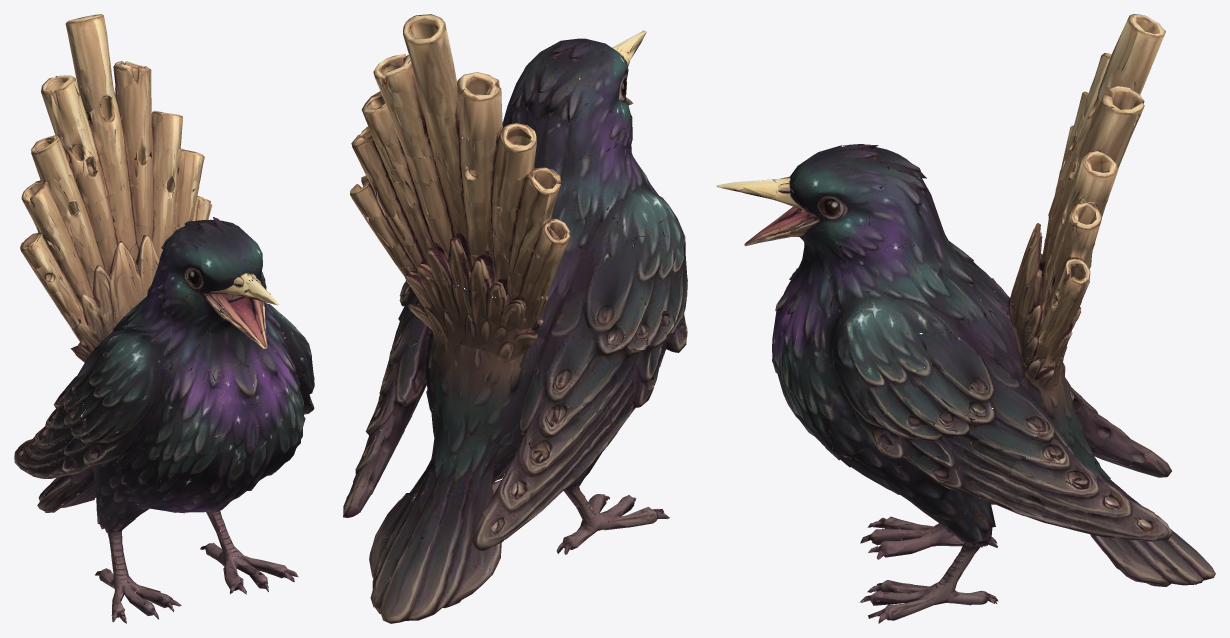
The picture shows the model from 3 angles, left to right: view 1: azimuth 30°, elevation 25°; view 2: azimuth 150°, elevation 25°; view 3: azimuth 270°, elevation 25°; orthographic projection. The views are drawn at different scales.
Parts seen in each view (by area): view 1: Mesh_0; view 2: Mesh_0; view 3: Mesh_0.
Part boxes in pixels (left/top/right/bottom): Mesh_0: left=14, top=14, right=314, bottom=623; Mesh_0: left=343, top=14, right=687, bottom=623; Mesh_0: left=716, top=14, right=1215, bottom=623.
Bounding box in the file's own units: 0.8862 × 1.9 × 1.54.
1 material, 1 textured.
